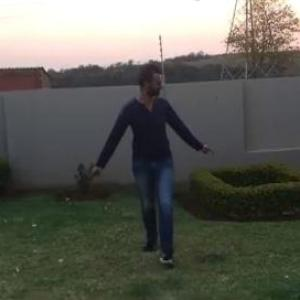land: (70, 54, 232, 280)
